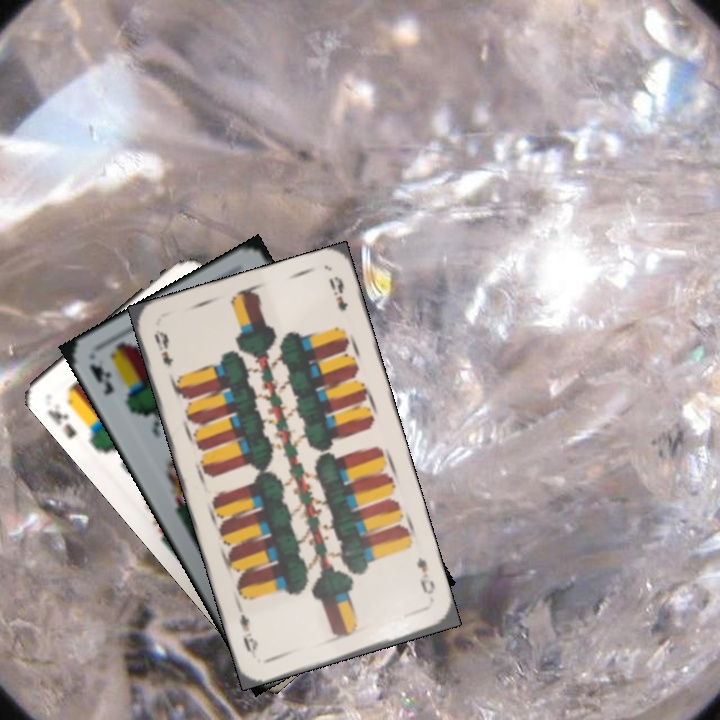E9: (150, 325, 176, 369), (412, 553, 438, 597)
EK: (43, 405, 79, 441), (86, 360, 117, 398)
